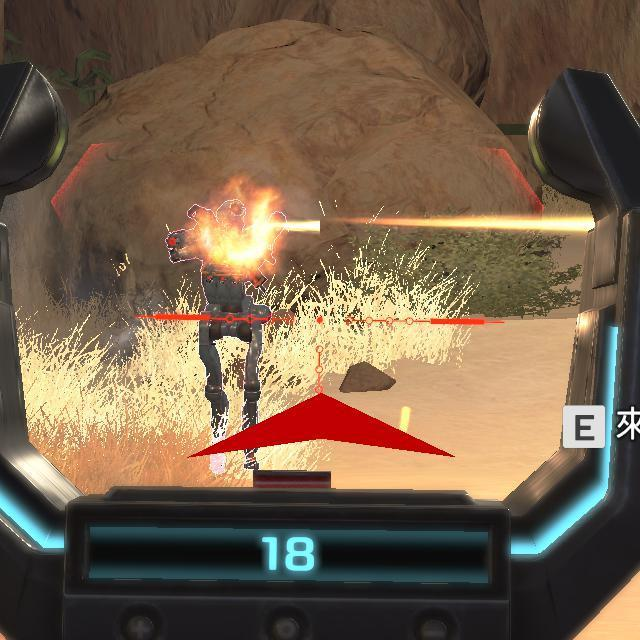avatar: (164, 194, 291, 476)
